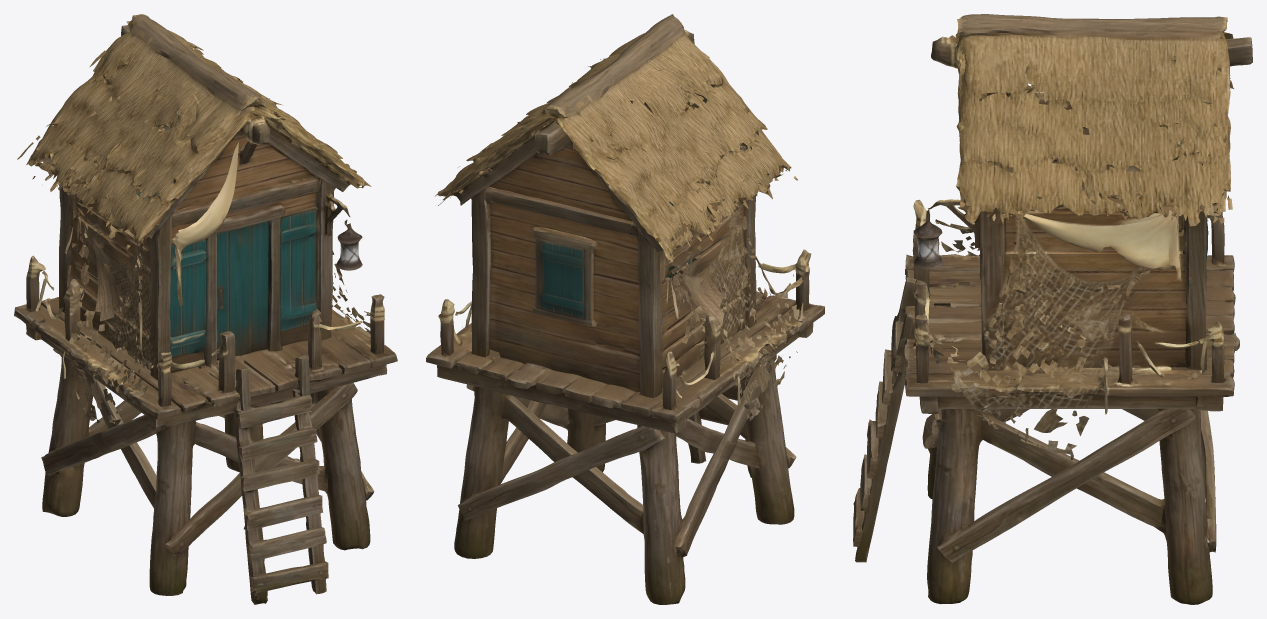
File: tidewake_fisher_hut.glb
3 views of the same model, side by side, from view 1: azimuth 30°, elevation 25°; view 2: azimuth 150°, elevation 25°; view 3: azimuth 270°, elevation 25° (orthographic). The views are drawn at different scales.
Parts seen in each view (by area): view 1: Mesh_0; view 2: Mesh_0; view 3: Mesh_0.
Boxes of the visible parts, x1,y1,x2,y2 form: Mesh_0: (14,14,397,604); Mesh_0: (426,14,824,604); Mesh_0: (853,14,1252,604).
Bounding box in the file's own units: 1.07 × 1.89 × 1.29.
1 material, 1 textured.
